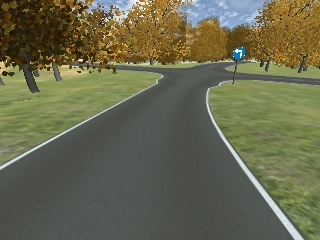left: (232, 47, 245, 59)
